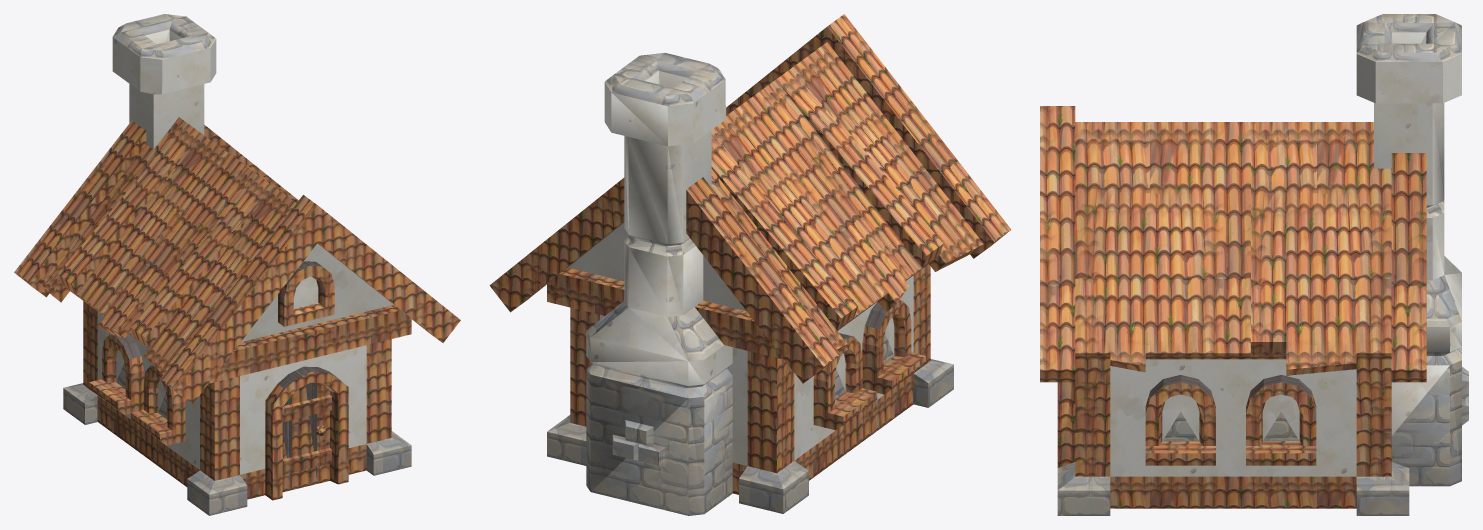
The model's file is building_home_A_red.gltf.
3 views of the same model, side by side, from view 1: azimuth 30°, elevation 25°; view 2: azimuth 150°, elevation 25°; view 3: azimuth 270°, elevation 25° (orthographic). The views are drawn at different scales.
Visible parts, largest first — view 1: building_home_A_red; view 2: building_home_A_red; view 3: building_home_A_red.
Boxes of the visible parts, x1,y1,x2,y2 form: building_home_A_red: (14, 14, 460, 515); building_home_A_red: (489, 14, 1011, 515); building_home_A_red: (1040, 14, 1468, 515).
Size of the model in its own units: 0.792 by 0.93 by 0.8537.
4 materials, 4 textured.
